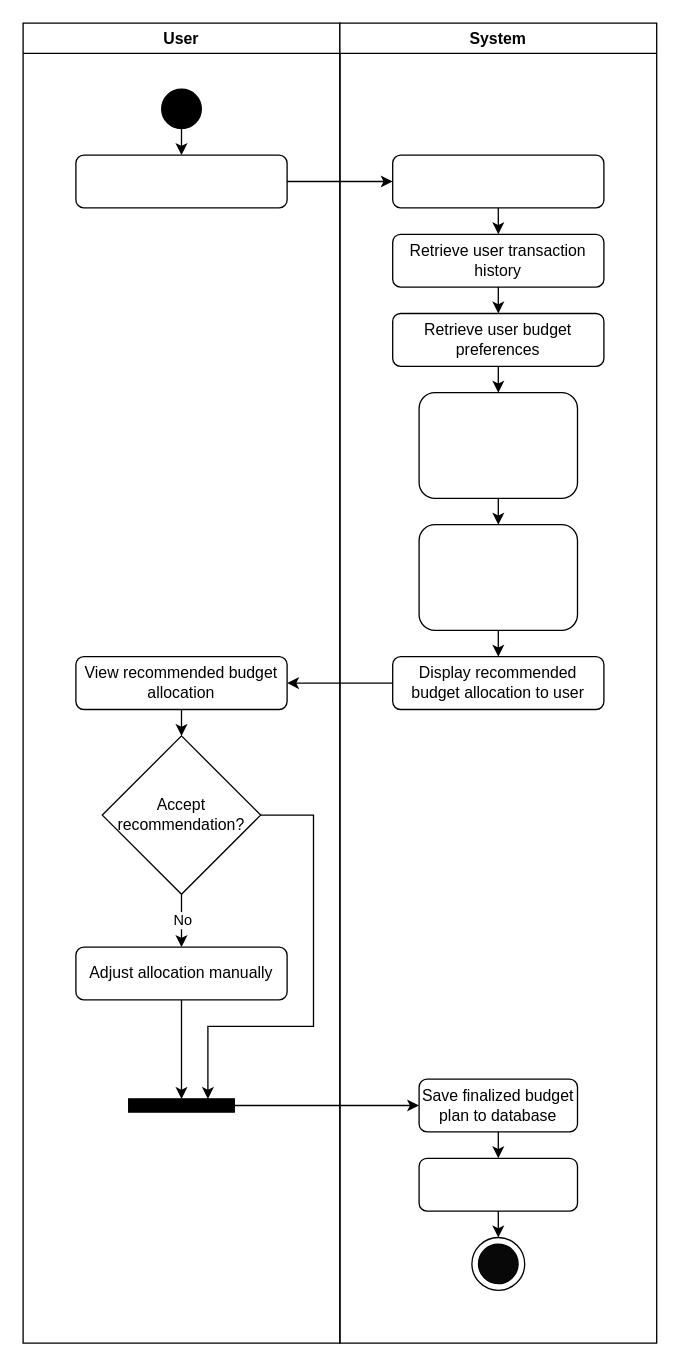
Image size: 680x1366. Some labels were removed from this diagram. The shapes that lost their labels are listed below. From the top down, each one's centre as x and y in pixels, then its label:
point 181,181: Open Budget Recommendation screen
point 497,181: Retrieve user financial behavioral profile
point 498,444: Run recommendation algorithm on profile + transaction history + preferences
point 498,576: Generate recommended budget allocation per category
point 498,1184: Activate budget plan for current period
